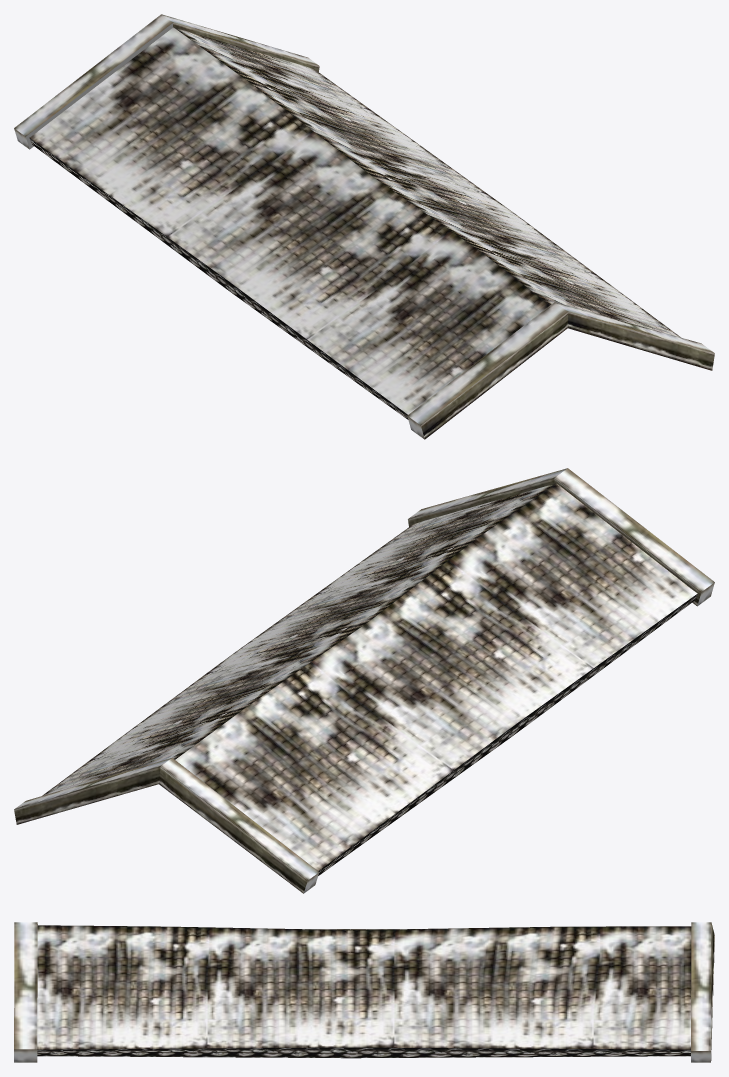
The model's file is fangd03.obj.
3 views of the same model, one above another, from view 1: azimuth 30°, elevation 25°; view 2: azimuth 150°, elevation 25°; view 3: azimuth 270°, elevation 25° (orthographic). The views are drawn at different scales.
Parts seen in each view (by area): view 1: fangd03; view 2: fangd03; view 3: fangd03.
Boxes of the visible parts, bbox=[...] form: fangd03: bbox=[14, 14, 714, 439]; fangd03: bbox=[14, 468, 714, 893]; fangd03: bbox=[14, 922, 714, 1062].
Size of the model in its own units: 97.97 by 29.93 by 236.
